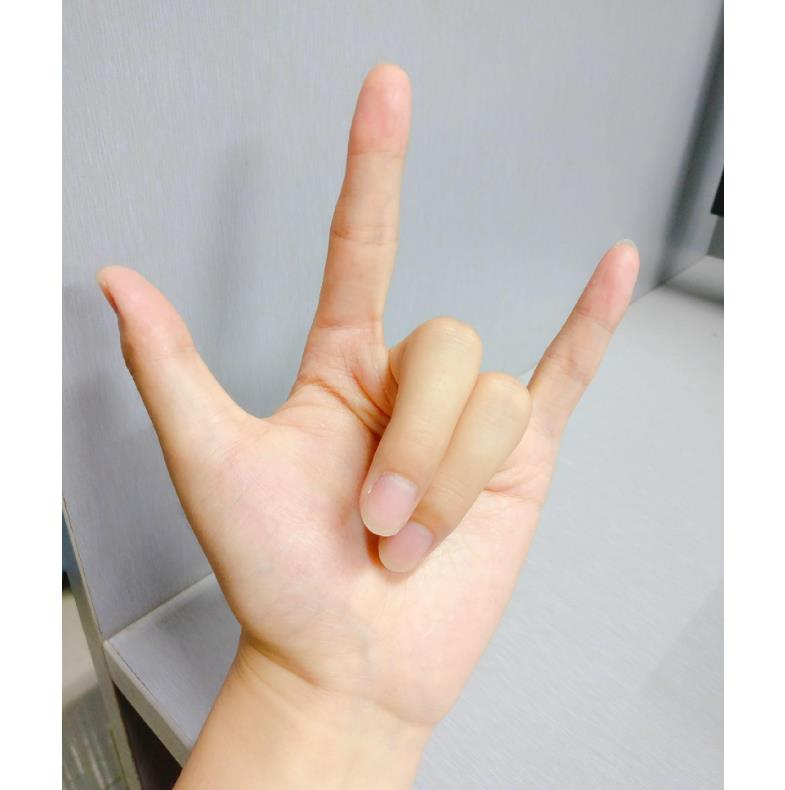back: (88, 57, 644, 693)
